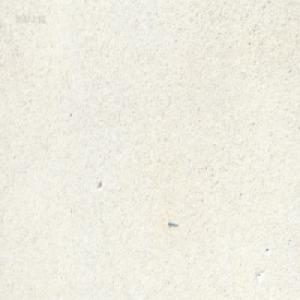Nail: (168, 219, 178, 227)
